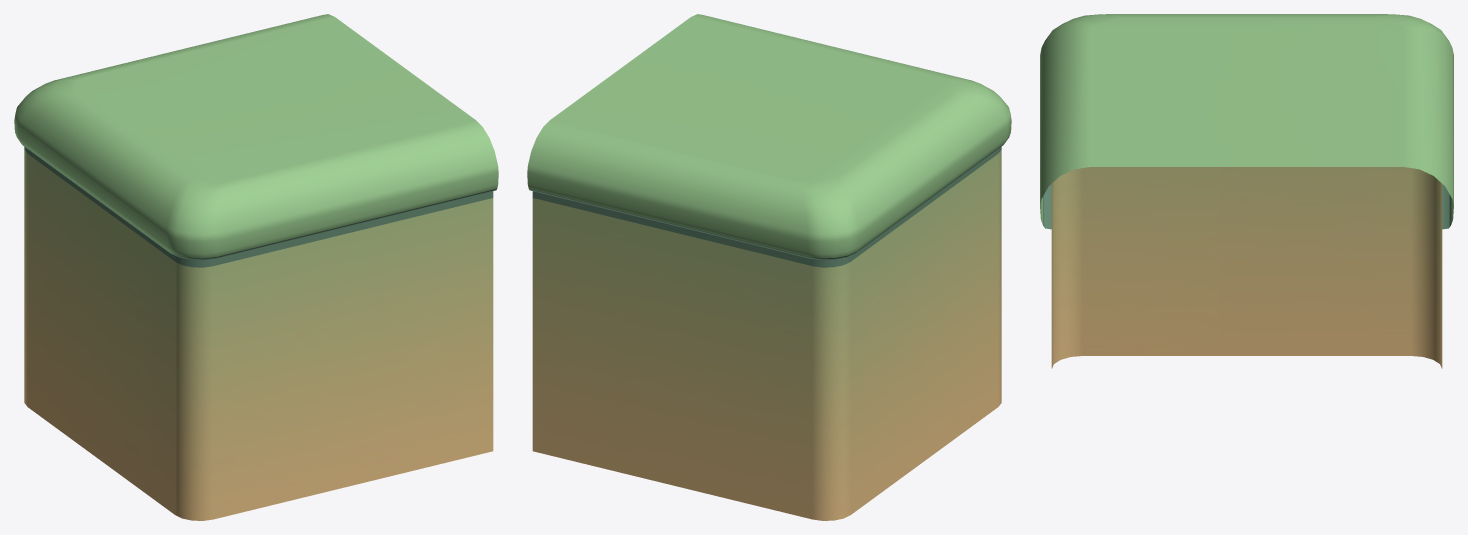
The model's file is platform_corner.fbx.
3 renders of one model, left to right at view 1: azimuth 30°, elevation 25°; view 2: azimuth 150°, elevation 25°; view 3: azimuth 270°, elevation 25°, orthographic. The views are drawn at different scales.
Visible parts, largest first — view 1: platform_corner; view 2: platform_corner; view 3: platform_corner.
Part boxes in pixels (x1,y1,x2,y2): platform_corner: (14,14,498,520); platform_corner: (527,14,1011,520); platform_corner: (1040,14,1453,368).
Bounding box in the file's own units: 103 × 100 × 106.
